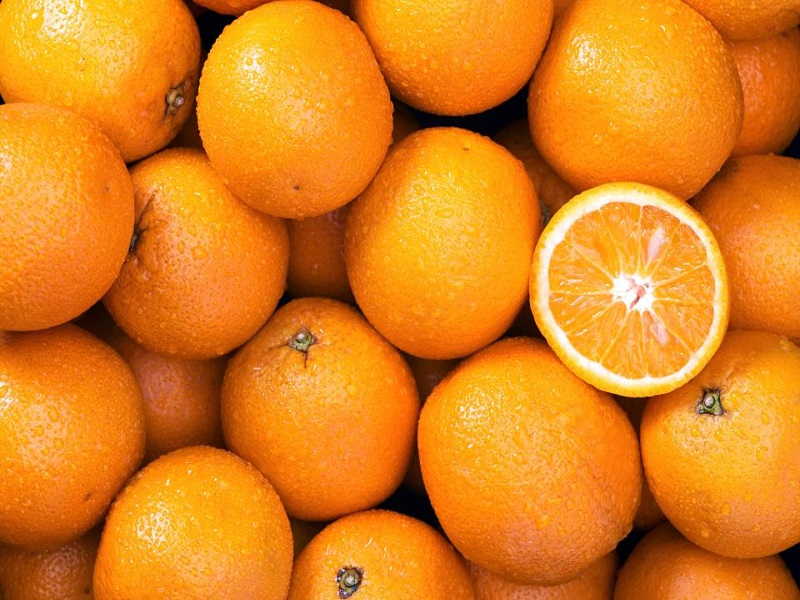orange: (378, 322, 669, 575), (340, 124, 565, 366), (525, 165, 753, 400), (527, 2, 759, 211), (214, 296, 427, 521), (200, 3, 412, 220), (105, 150, 298, 365), (639, 314, 796, 569), (1, 311, 163, 549), (1, 113, 142, 348), (1, 7, 209, 148)
